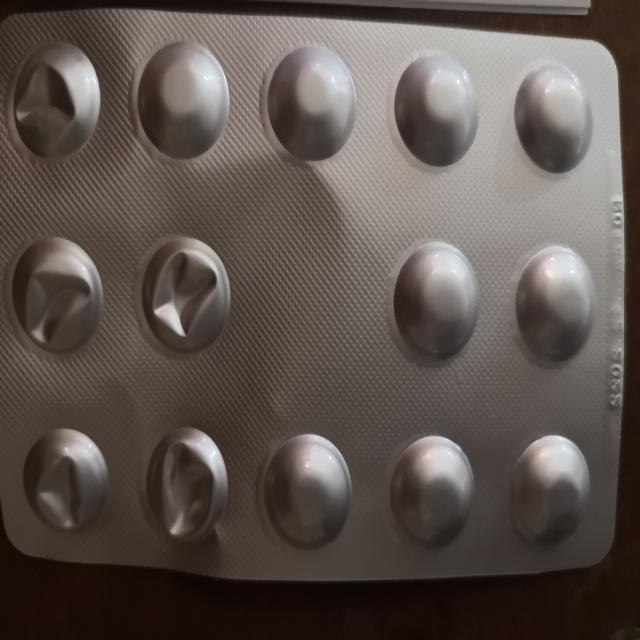Empty: (5, 228, 106, 359), (9, 32, 104, 167), (16, 420, 115, 543), (139, 229, 231, 358), (142, 425, 229, 546)
Pill: (132, 27, 236, 164), (257, 38, 365, 166), (388, 229, 485, 370), (260, 425, 357, 556), (385, 46, 484, 174), (387, 430, 479, 555), (511, 239, 597, 370), (508, 426, 594, 550), (511, 57, 599, 176)
